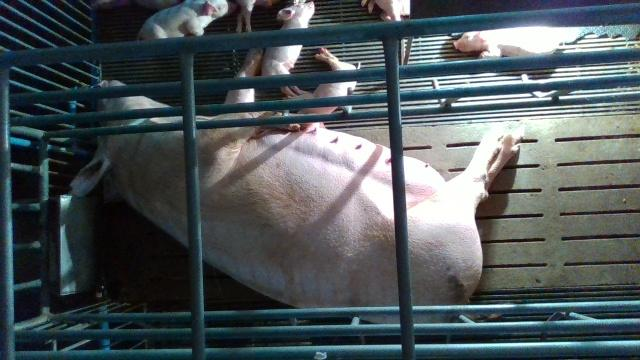piglet: (269, 47, 360, 132), (262, 0, 316, 98), (137, 0, 238, 40), (454, 26, 559, 60)
sow-sleep-lactate: (71, 46, 523, 325)
